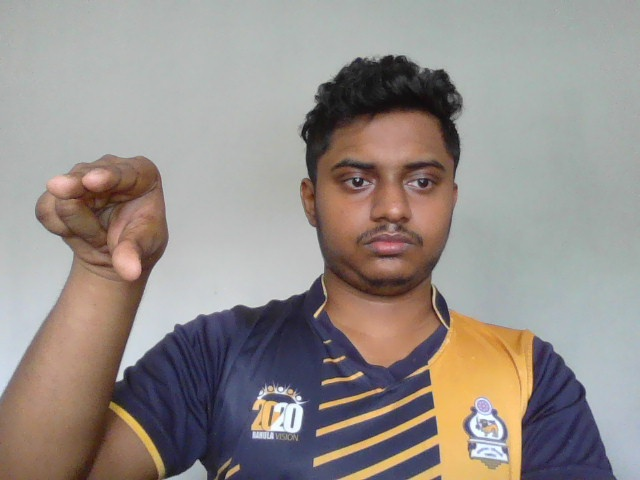No: (38, 151, 178, 281)
